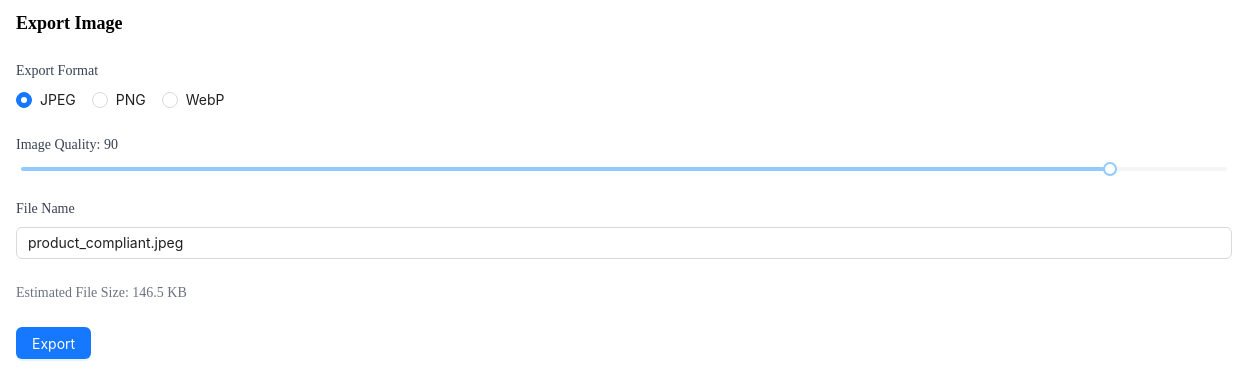
Test: ExportPanel › hides quality slider when PNG format is selected
Click the radio button labelled "PNG": click(123, 100) top-left (92, 89), bottom-right (154, 111)
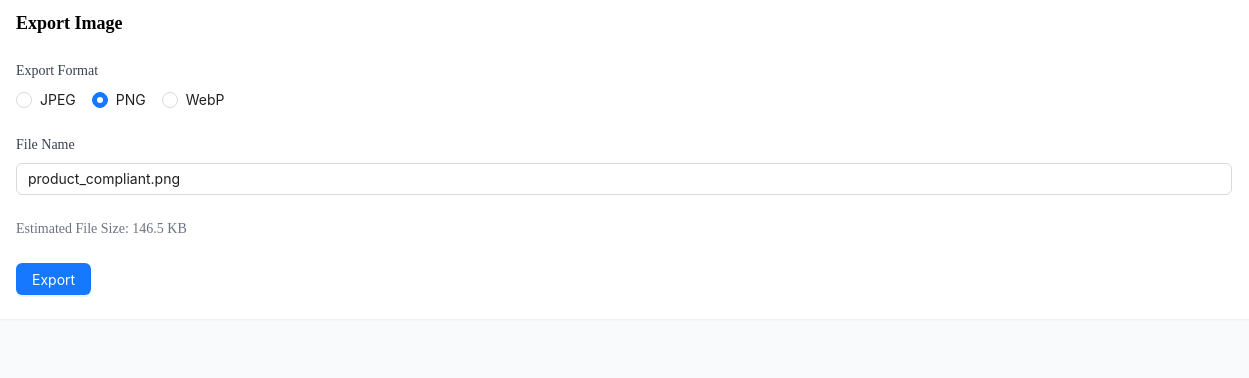
Check: the text "Image Quality" is gone
